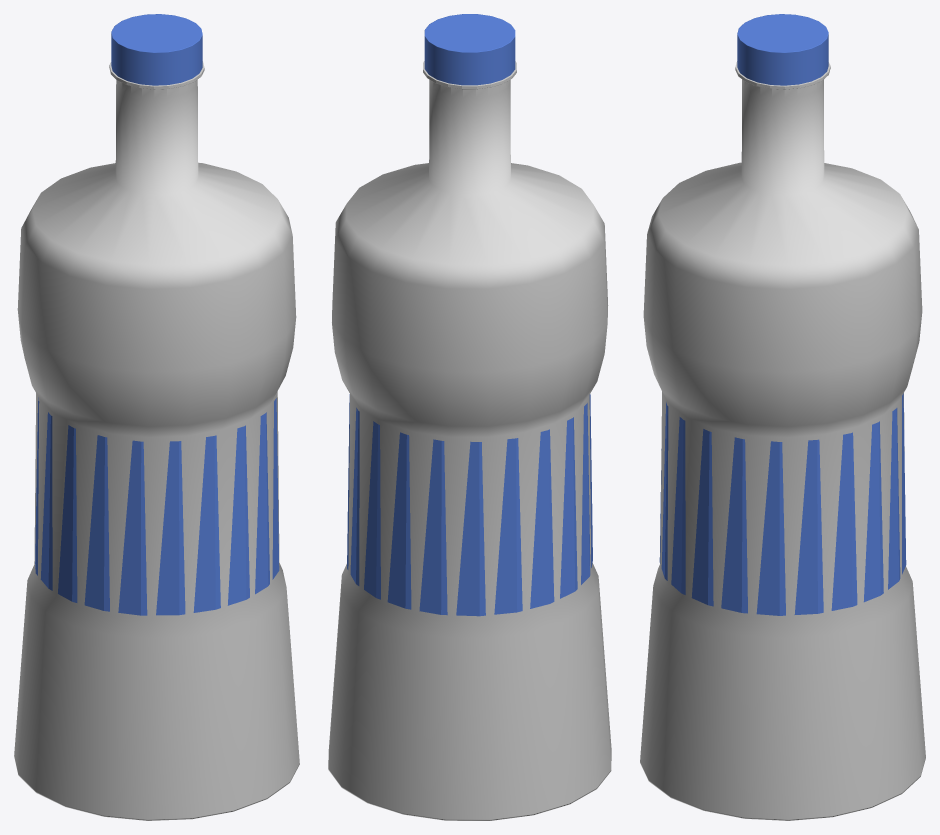
The model's file is Bottle_8.fbx.
3 renders of one model, left to right at view 1: azimuth 30°, elevation 25°; view 2: azimuth 150°, elevation 25°; view 3: azimuth 270°, elevation 25°, orthographic.
Parts seen in each view (by area): view 1: polySurface3, bottle_name, cap; view 2: polySurface3, bottle_name, cap; view 3: polySurface3, bottle_name, cap.
Boxes of the visible parts, <box> form: polySurface3: <box>14,61,299,820</box>; bottle_name: <box>35,397,279,615</box>; cap: <box>111,14,202,85</box>; polySurface3: <box>328,61,611,820</box>; bottle_name: <box>347,394,592,616</box>; cap: <box>424,14,515,85</box>; polySurface3: <box>640,61,925,820</box>; bottle_name: <box>659,393,906,615</box>; cap: <box>737,14,828,85</box>.
Bounding box in the file's own units: 0.3535 × 0.9918 × 0.3535.
